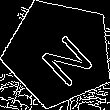N_NW: (26, 21, 91, 85)
